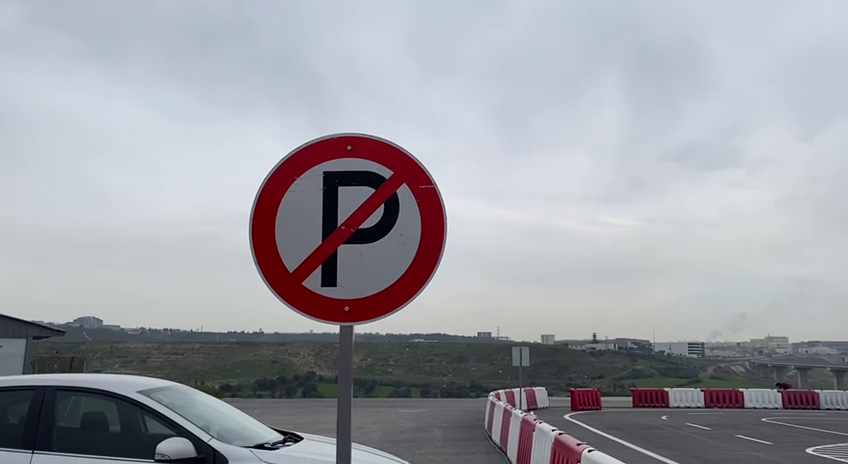noparking: (248, 126, 451, 330)
